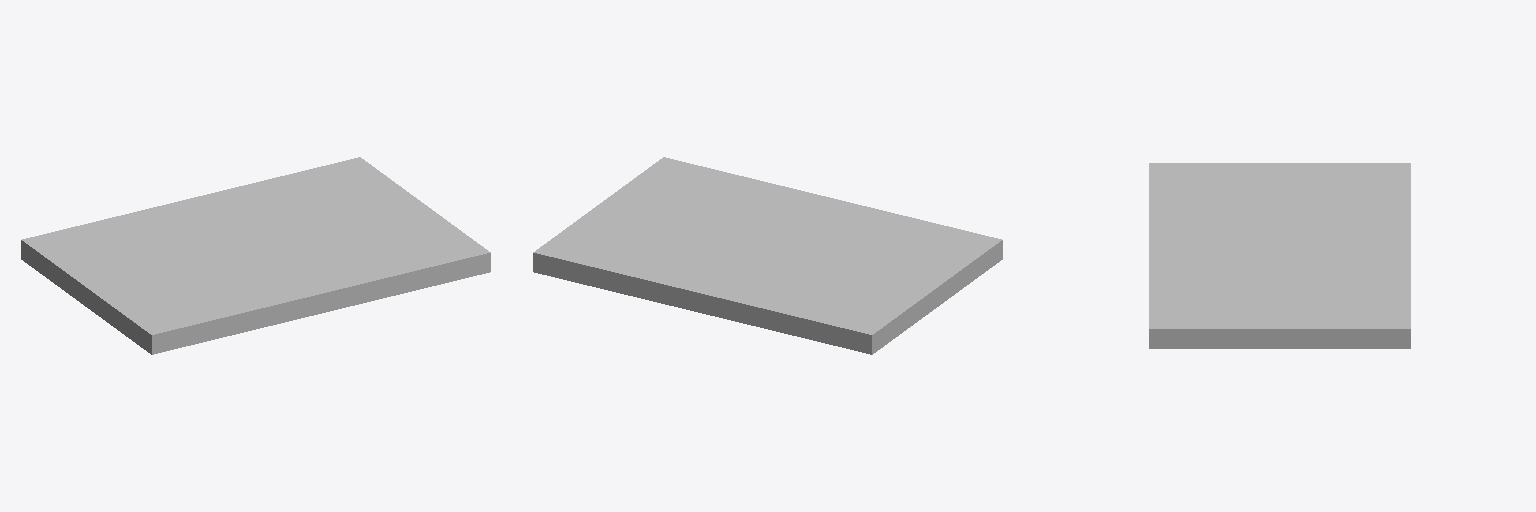
The model's file is footpath.obj.
3 views of the same model, side by side, from view 1: azimuth 30°, elevation 25°; view 2: azimuth 150°, elevation 25°; view 3: azimuth 270°, elevation 25° (orthographic).
Bounding box in the file's own units: 18 × 1 × 12.